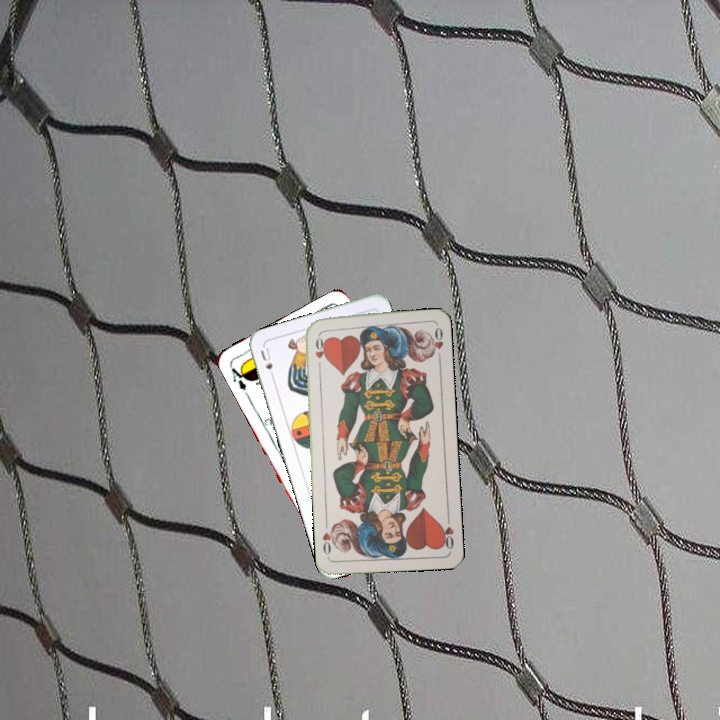EA: (226, 362, 252, 399)
HO: (438, 512, 456, 552), (311, 330, 327, 371)
SU: (256, 343, 278, 383)
